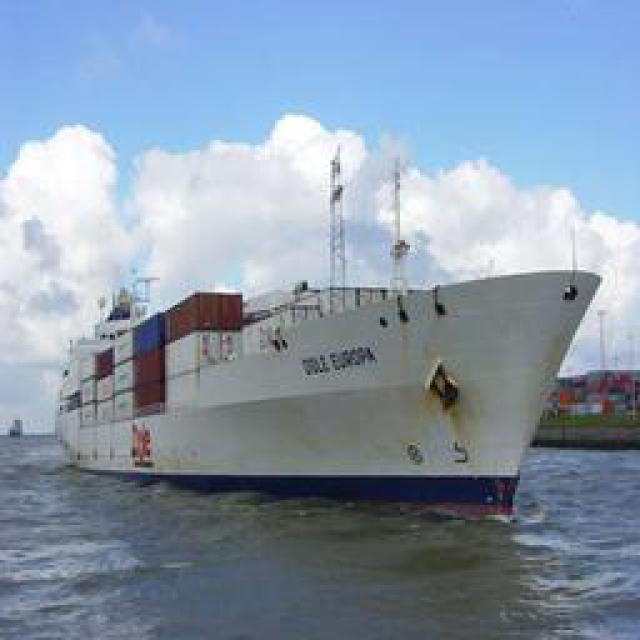Ship: (61, 235, 596, 500)
